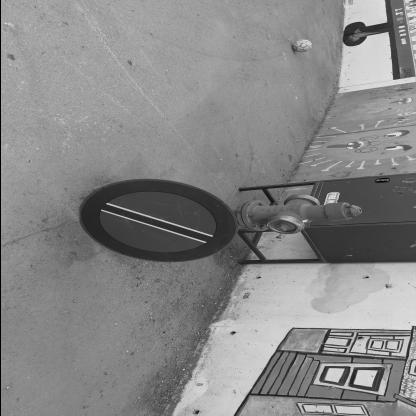No Waiting: (78, 181, 238, 263)
